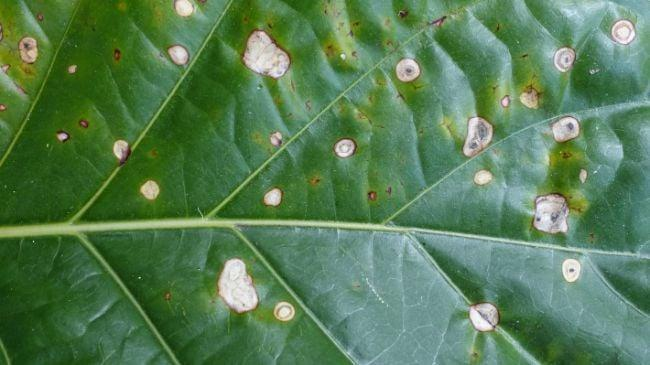black-spot: (199, 12, 613, 233)
